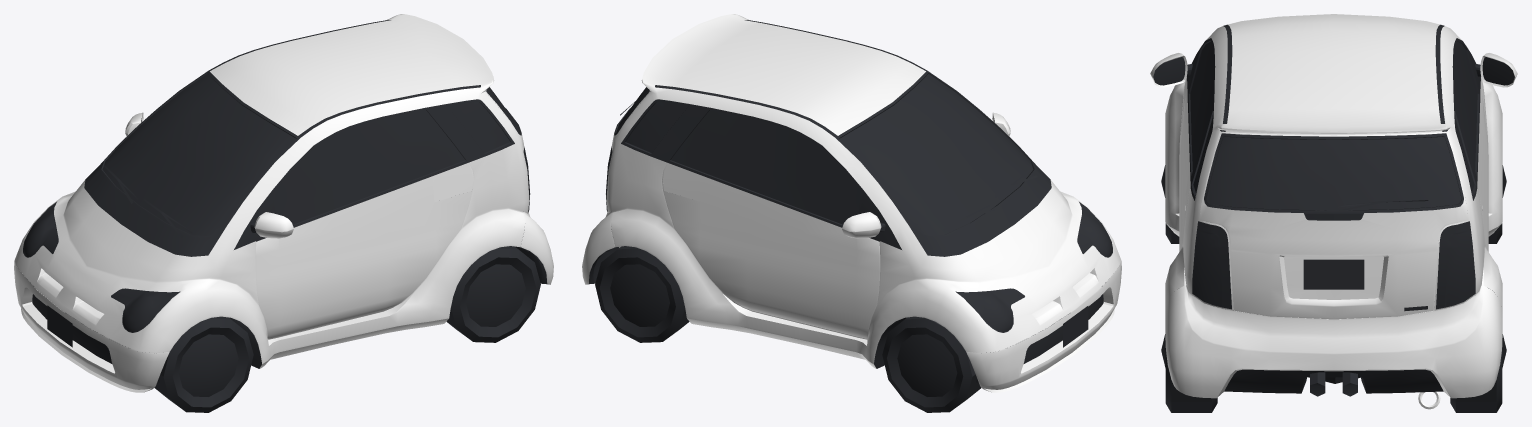
The model's file is panton.glb.
3 renders of one model, left to right at view 1: azimuth 30°, elevation 25°; view 2: azimuth 150°, elevation 25°; view 3: azimuth 270°, elevation 25°, orthographic. The views are drawn at different scales.
Visible parts, largest first — view 1: panto.001; view 2: panto.001; view 3: panto.001.
Part boxes in pixels (x1,y1,x2,y2): panto.001: (14, 14, 553, 412); panto.001: (582, 14, 1121, 412); panto.001: (1150, 14, 1517, 412).
Size of the model in its own units: 0.3042 by 0.1634 by 0.181.
2 materials, 2 textured.
